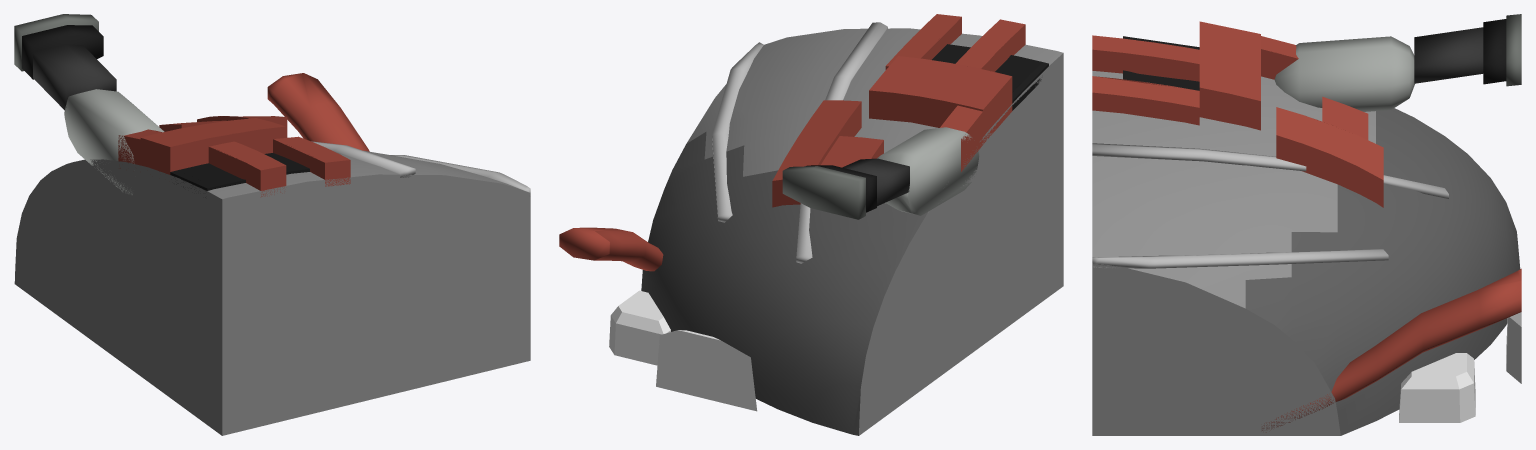
Rendered from newshi-43.glb.
3 renders of one model, left to right at view 1: azimuth 30°, elevation 25°; view 2: azimuth 150°, elevation 25°; view 3: azimuth 270°, elevation 25°, orthographic. The views are drawn at different scales.
Parts seen in each view (by area): view 1: newshi-43; view 2: newshi-43; view 3: newshi-43.
Boxes of the visible parts, x1=… form: newshi-43: x1=14, y1=14, x2=530, y2=435; newshi-43: x1=559, y1=14, x2=1063, y2=435; newshi-43: x1=1092, y1=14, x2=1521, y2=435.
Bounding box in the file's own units: 2 × 1.61 × 2.33.
